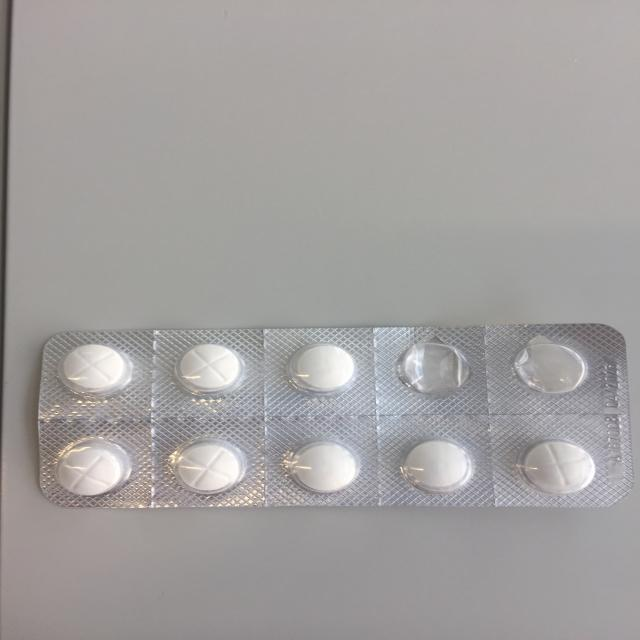Empty: (506, 336, 602, 397), (392, 339, 479, 397)
Pill: (514, 436, 605, 500), (43, 437, 133, 499), (282, 434, 370, 497), (395, 433, 480, 496), (164, 435, 248, 496), (279, 339, 362, 398), (168, 339, 250, 396), (52, 341, 138, 395)
